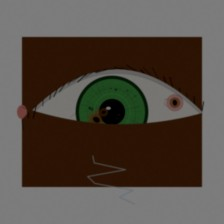foreign_body_visible: (79, 106, 114, 134)
